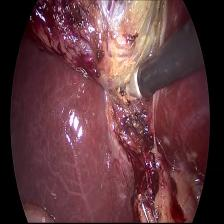Hook: (112, 60, 150, 111)
